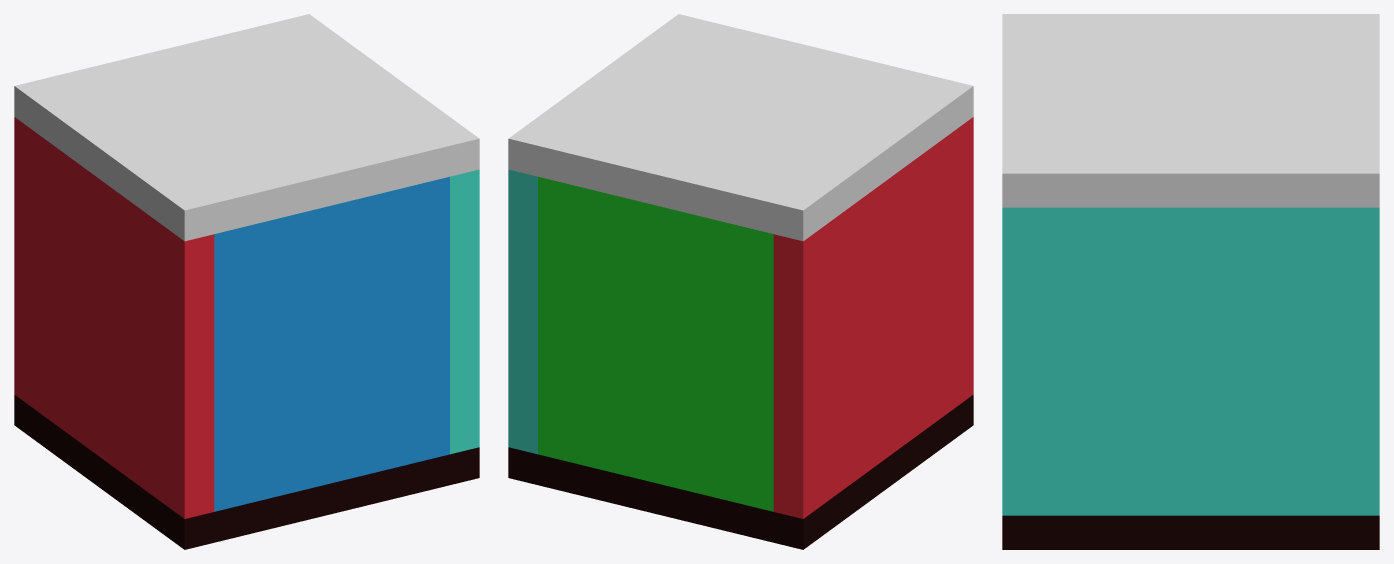
Rendered from kiste.fbx.
The picture shows the model from 3 angles, left to right: view 1: azimuth 30°, elevation 25°; view 2: azimuth 150°, elevation 25°; view 3: azimuth 270°, elevation 25°; orthographic projection. The views are drawn at different scales.
Parts seen in each view (by area): view 1: mitte1, top, rechts, bot, links; view 2: mitte2, top, rechts, bot, links; view 3: links, top, bot.
Part boxes in pixels (box(x1,y1,x2,y2)): mitte1: box(214, 176, 449, 511); top: box(14, 14, 479, 241); rechts: box(14, 117, 214, 518); bot: box(14, 394, 479, 549); links: box(450, 169, 479, 454); mitte2: box(538, 176, 773, 511); top: box(508, 14, 973, 241); rechts: box(773, 117, 973, 518); bot: box(508, 394, 973, 549); links: box(508, 169, 537, 454); links: box(1002, 207, 1379, 515); top: box(1002, 14, 1379, 207); bot: box(1002, 515, 1379, 549).
Size of the model in its own units: 100 by 110 by 100.
